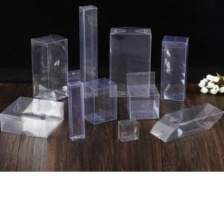plastic_box: (105, 21, 155, 100), (146, 97, 224, 147), (26, 29, 73, 103), (0, 92, 69, 142), (72, 0, 102, 101), (75, 72, 122, 127), (157, 31, 191, 103), (122, 67, 165, 122), (60, 64, 89, 145), (113, 114, 144, 145)
